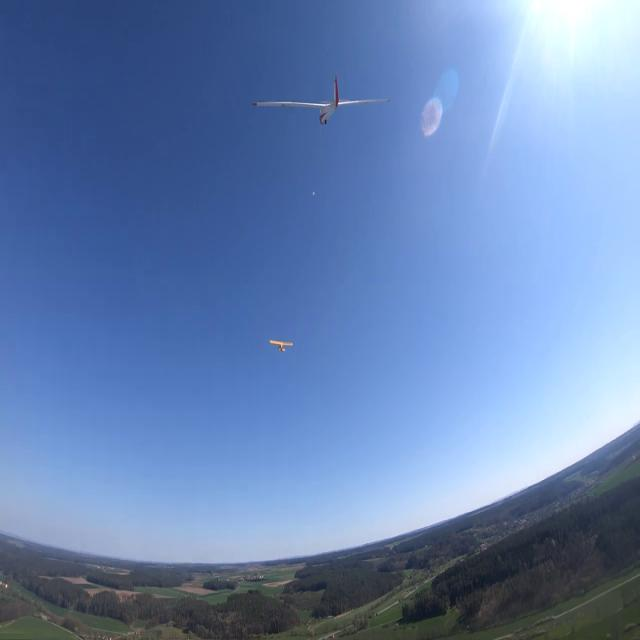iha: (254, 12, 387, 60), (267, 335, 296, 354)
